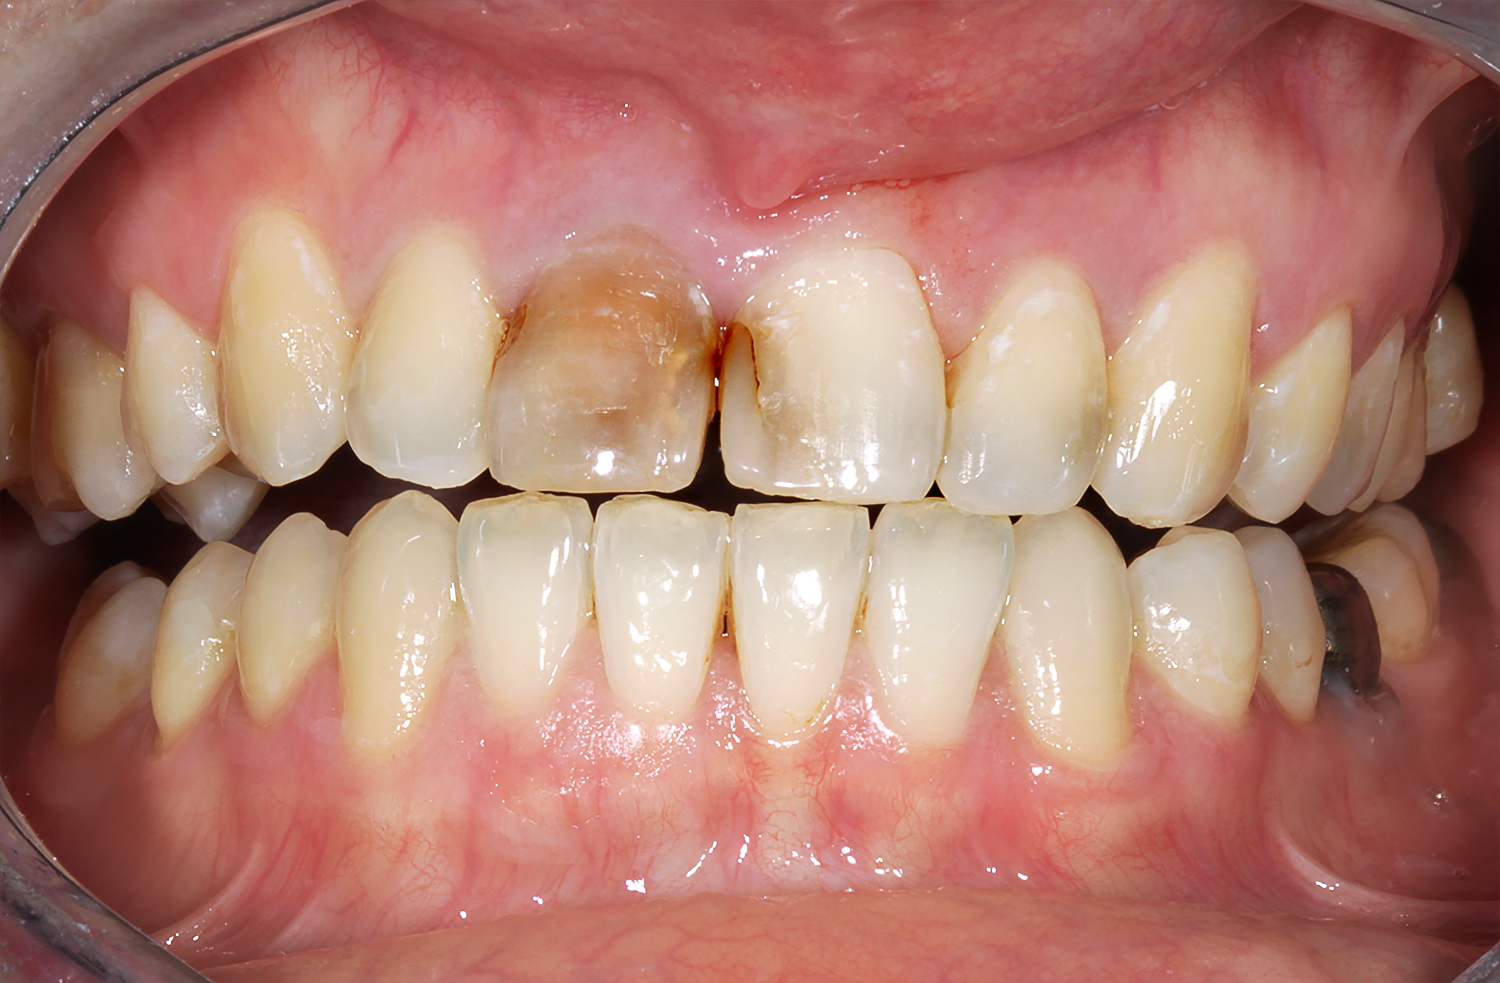LL1BC_healthy: (1134, 518, 1268, 734)
LL1M_decay: (1302, 557, 1389, 715)
LL2BC_healthy: (1237, 521, 1323, 737)
LL2M_healthy: (1340, 502, 1455, 663)
LLCI_healthy: (724, 512, 868, 753)
LLC_healthy: (1008, 515, 1143, 771)
LLLI_healthy: (866, 502, 1016, 755)
LR1BC_healthy: (239, 518, 340, 731)
LR1M_healthy: (53, 553, 166, 739)
LR2BC_healthy: (154, 536, 255, 753)
LRCI_healthy: (593, 495, 730, 728)
LRC_healthy: (334, 505, 456, 757)
LRLI_healthy: (458, 495, 589, 724)
UL1BC_healthy: (1248, 313, 1353, 528)
UL1M_healthy: (1418, 312, 1487, 449)
UL2BC_healthy: (1337, 342, 1432, 513)
ULCI_decay: (721, 242, 953, 510)
ULC_healthy: (1101, 249, 1268, 524)
ULLI_healthy: (953, 273, 1114, 518)
UR1BC_healthy: (116, 287, 235, 484)
UR2BC_healthy: (35, 329, 154, 523)
URCI_decay: (490, 228, 721, 486)
URC_healthy: (221, 221, 355, 479)
URLI_healthy: (345, 241, 505, 484)
